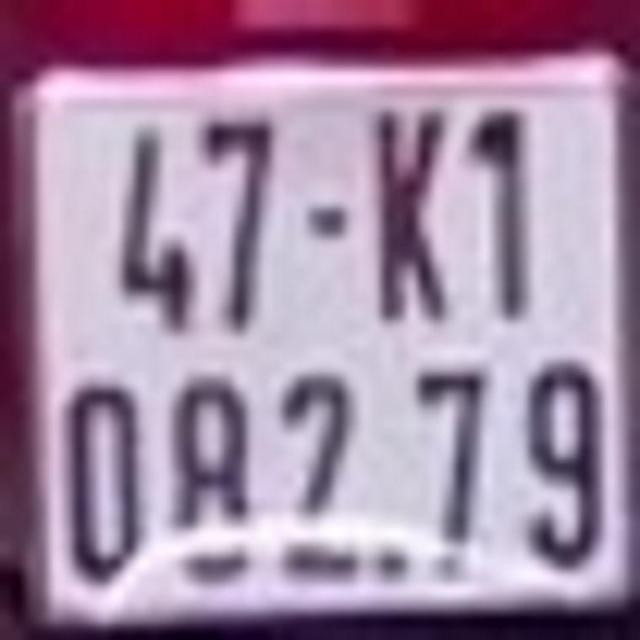0: (64, 382, 138, 572)
1: (464, 102, 526, 324)
2: (286, 358, 356, 574)
4: (120, 132, 196, 330)
7: (411, 368, 485, 588), (203, 113, 273, 329)
8: (172, 374, 250, 580)
9: (526, 358, 605, 574)
K: (381, 112, 454, 325)
